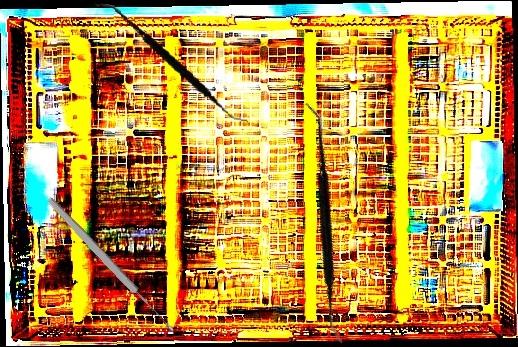Spatula Surgical: (211, 101, 437, 345), (80, 2, 263, 125)
Surgical Spoon: (44, 195, 178, 336)
